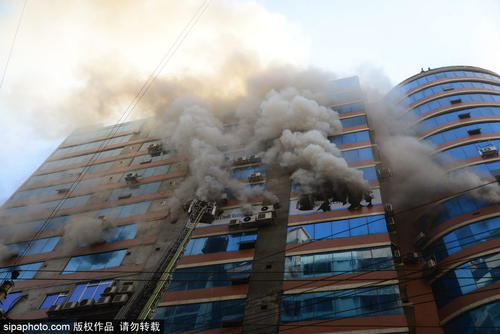smoke: (154, 18, 359, 210)
